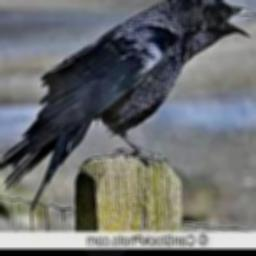Crow: (0, 0, 256, 211)
